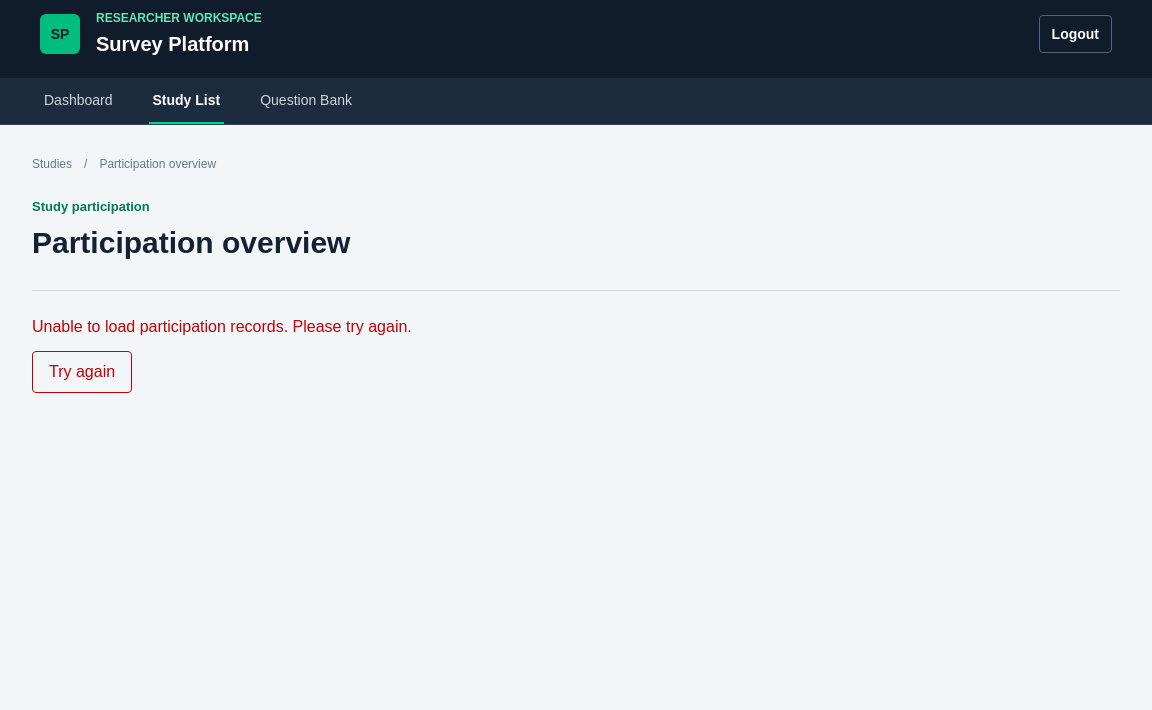
Test: real study participation page › offers retry after a network failure
Expected: the message "Unable to load participation records. Please try again. Try again" is shown, left=32, top=318, right=412, bottom=392
Click the button "Try again". click: [82, 372]
box: left=32, top=350, right=132, bottom=392
(page scrolled)
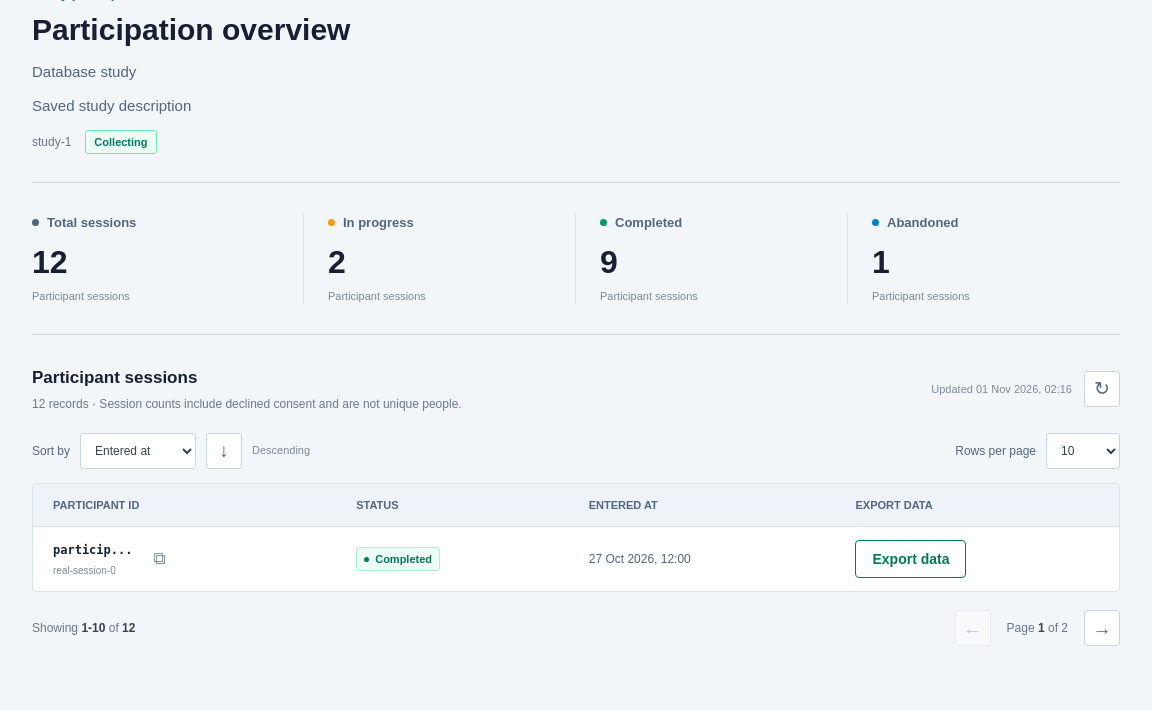
Expected: the text "real-session-0" is shown, left=53, top=565, right=116, bottom=576
